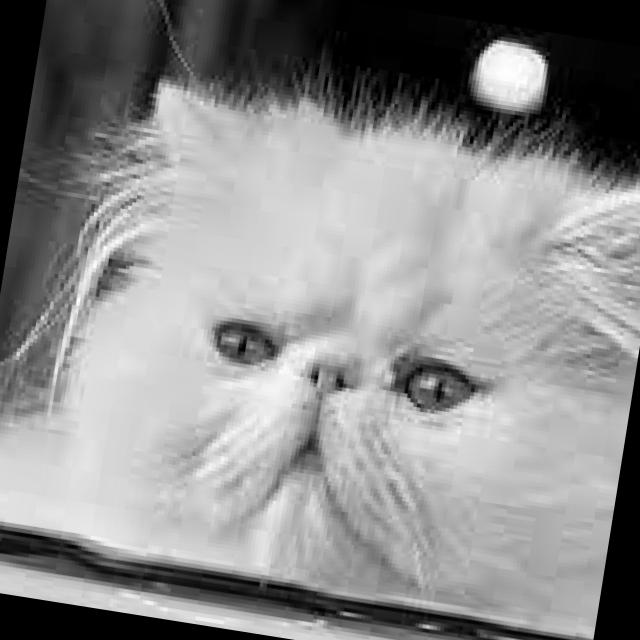iran: (152, 242, 528, 588)
